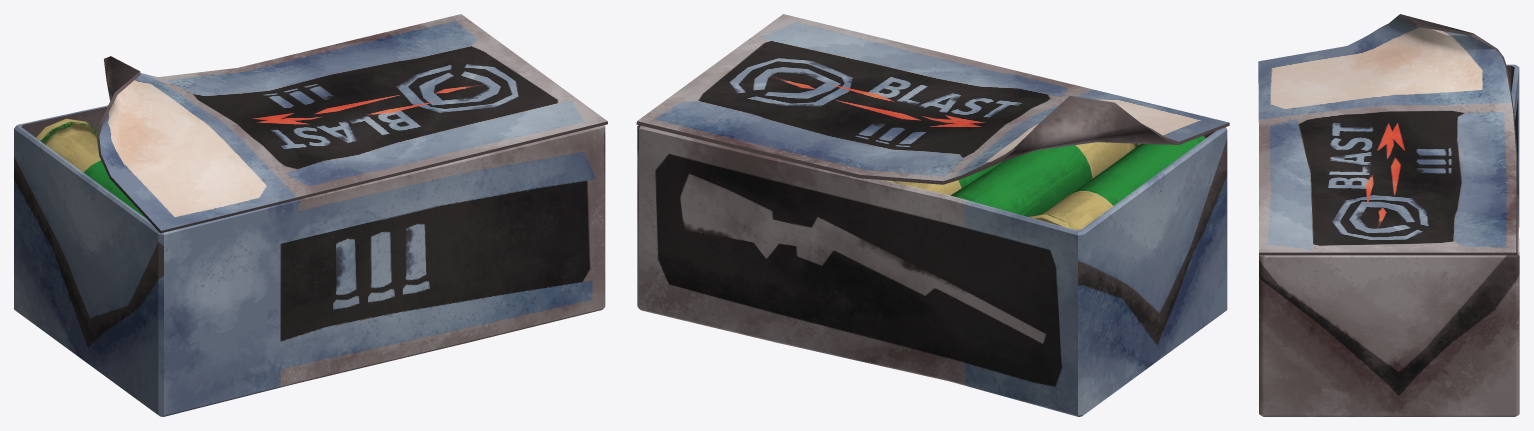
The model's file is ShotgunBirdshotBox.glb.
3 views of the same model, side by side, from view 1: azimuth 30°, elevation 25°; view 2: azimuth 150°, elevation 25°; view 3: azimuth 270°, elevation 25° (orthographic). The views are drawn at different scales.
Parts seen in each view (by area): view 1: ShotgunBirdshotBox; view 2: ShotgunBirdshotBox; view 3: ShotgunBirdshotBox.
Boxes of the visible parts, box(x1,y1,x2,y2) form: ShotgunBirdshotBox: box(14, 14, 607, 416); ShotgunBirdshotBox: box(636, 14, 1229, 416); ShotgunBirdshotBox: box(1258, 14, 1519, 416).
Bounding box in the file's own units: 0.2459 × 0.1367 × 0.1394.
2 materials, 2 textured.
